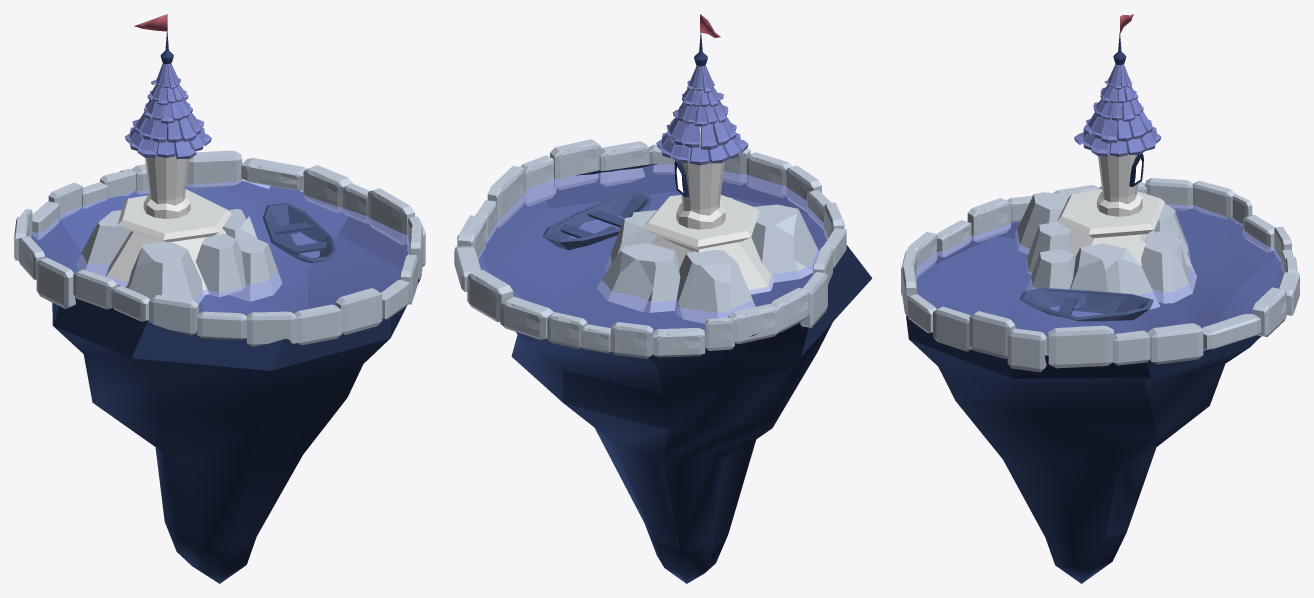
File: HumlyNEW.glb
3 renders of one model, left to right at view 1: azimuth 30°, elevation 25°; view 2: azimuth 150°, elevation 25°; view 3: azimuth 270°, elevation 25°, orthographic. The views are drawn at different scales.
Visible parts, largest first — view 1: HumlyPlatform, Circle, Roof, Circle.002, TowerBase, Circle.001, Boat, Circle.006, BorderStone.018, Circle.003, BorderStone.014, BorderStone.009 (+18 smaller); view 2: HumlyPlatform, Circle, Roof, Circle.004, Circle.003, Circle.002, TowerBase, Boat, BorderStone.012, BorderStone.011, BorderStone.021, BorderStone.018 (+18 smaller); view 3: HumlyPlatform, Roof, Circle, Circle.005, Boat, Circle.004, BorderStone.014, TowerBase, BorderStone.016, Circle.002, BorderStone.012, BorderStone.013 (+15 smaller).
Boxes of the visible parts, x1,y1,x2,y2 form: HumlyPlatform: [29, 180, 420, 583]; Circle: [105, 189, 231, 294]; Roof: [125, 63, 211, 159]; Circle.002: [125, 241, 205, 304]; TowerBase: [143, 138, 190, 218]; Circle.001: [195, 234, 245, 297]; Boat: [262, 202, 336, 263]; Circle.006: [229, 238, 282, 301]; BorderStone.018: [187, 150, 242, 189]; Circle.003: [75, 210, 130, 276]; BorderStone.014: [367, 188, 414, 245]; BorderStone.009: [335, 288, 382, 334]; HumlyPlatform: [478, 164, 872, 583]; Circle: [642, 194, 774, 294]; Roof: [656, 65, 748, 165]; Circle.004: [596, 242, 680, 312]; Circle.003: [674, 250, 755, 323]; Circle.002: [751, 204, 818, 282]; TowerBase: [676, 90, 725, 229]; Boat: [542, 193, 650, 250]; BorderStone.012: [550, 139, 600, 189]; BorderStone.011: [599, 141, 649, 186]; BorderStone.021: [500, 296, 553, 339]; BorderStone.018: [467, 270, 513, 322]; HumlyPlatform: [906, 204, 1283, 583]; Roof: [1074, 64, 1161, 156]; Circle: [1057, 189, 1164, 266]; Circle.005: [1070, 243, 1160, 309]; Boat: [1019, 287, 1153, 321]; Circle.004: [1141, 230, 1197, 303]; BorderStone.014: [1048, 325, 1114, 368]; TowerBase: [1097, 88, 1142, 216]; BorderStone.016: [1147, 323, 1203, 364]; Circle.002: [1015, 192, 1071, 254]; BorderStone.012: [969, 311, 1015, 358]; BorderStone.013: [1007, 328, 1047, 372].
Size of the model in its own units: 28.05 by 45.77 by 29.98.
